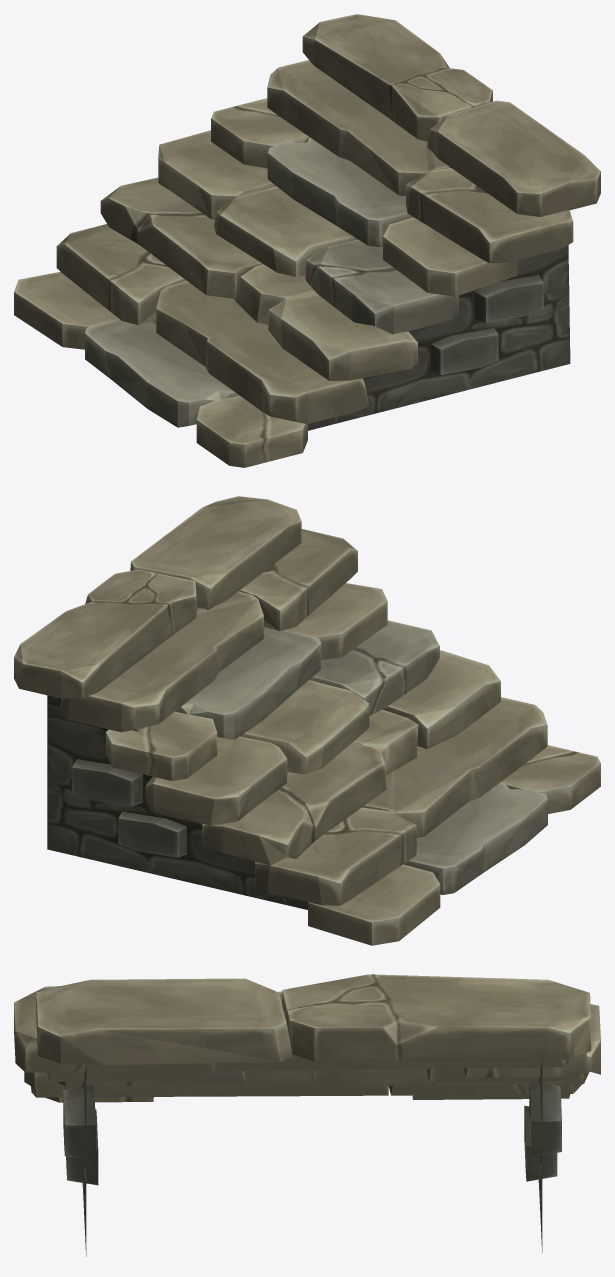
Rendered from forget_level_01.FBX.
The picture shows the model from 3 angles, top to bottom: view 1: azimuth 30°, elevation 25°; view 2: azimuth 150°, elevation 25°; view 3: azimuth 270°, elevation 25°; orthographic projection. The views are drawn at different scales.
Parts seen in each view (by area): view 1: forget_level_01; view 2: forget_level_01; view 3: forget_level_01.
Part boxes in pixels (x1=…): forget_level_01: x1=14, y1=14, x2=600, y2=467; forget_level_01: x1=14, y1=496, x2=600, y2=945; forget_level_01: x1=14, y1=974, x2=600, y2=1256.
Size of the model in its own units: 427 by 221 by 461.
